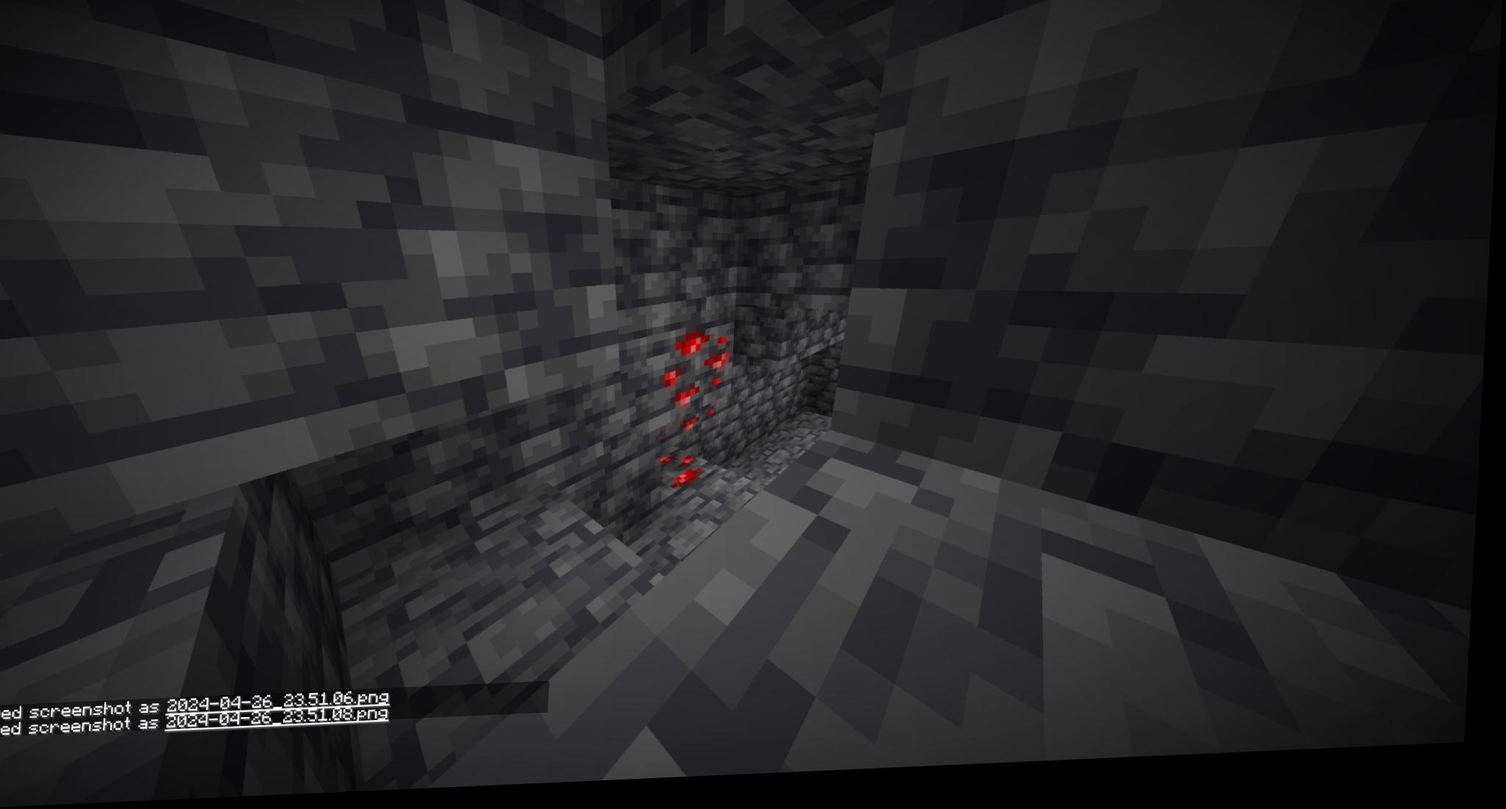redstone ore: (660, 414, 721, 497), (667, 332, 735, 405)
